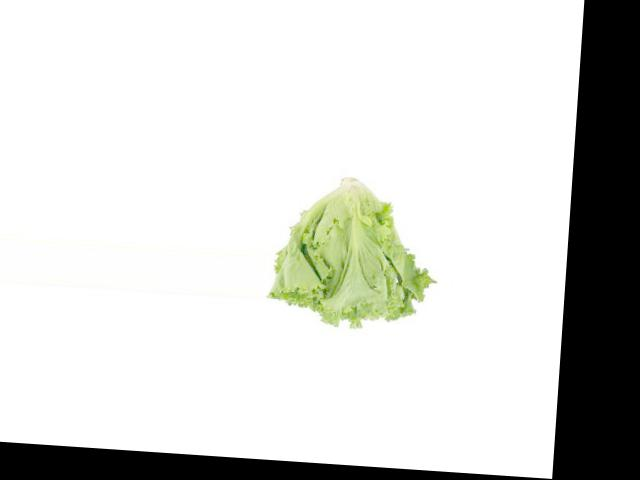lettuce: (269, 179, 427, 329)
